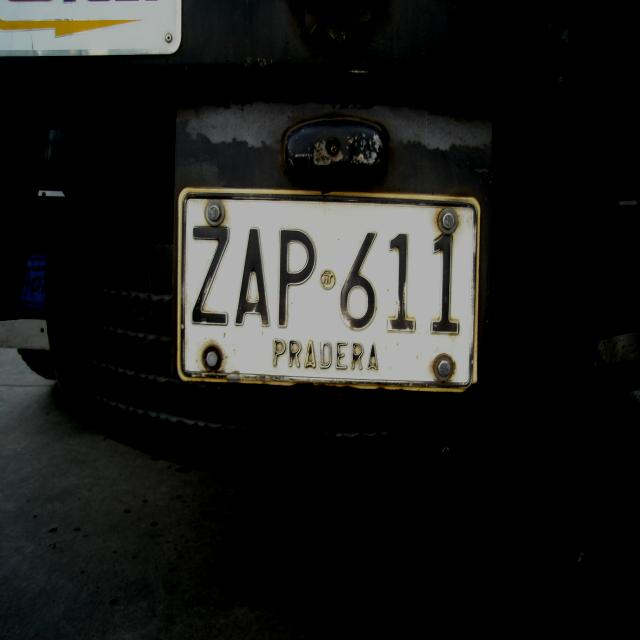placa: (172, 173, 482, 401)
